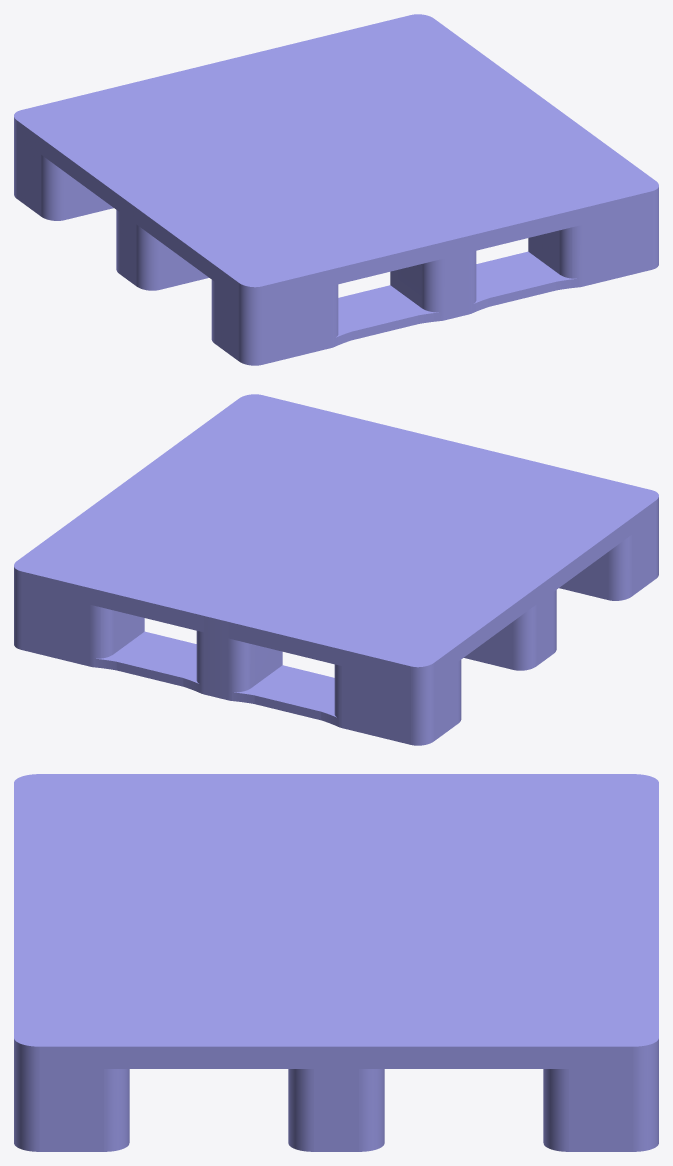
3 views of the same model, one above another, from view 1: azimuth 30°, elevation 25°; view 2: azimuth 150°, elevation 25°; view 3: azimuth 270°, elevation 25° (orthographic). The views are drawn at different scales.
Visible parts, largest first — view 1: 杭叉托盘2.002; view 2: 杭叉托盘2.002; view 3: 杭叉托盘2.002.
Boxes of the visible parts, <box> form: 杭叉托盘2.002: <box>14,14,658,365</box>; 杭叉托盘2.002: <box>14,394,658,745</box>; 杭叉托盘2.002: <box>14,774,658,1151</box>.
Size of the model in its own units: 1 by 0.18 by 1.
